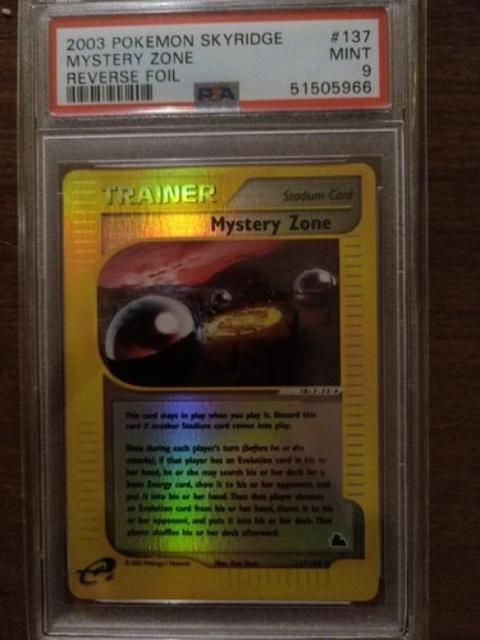Card: (56, 158, 385, 606)
Name: (203, 210, 338, 238)
